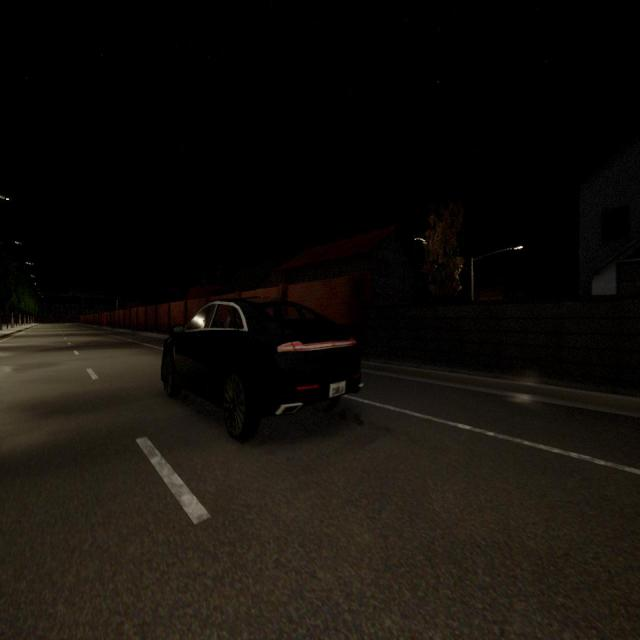Vehicle: (161, 299, 361, 439)
